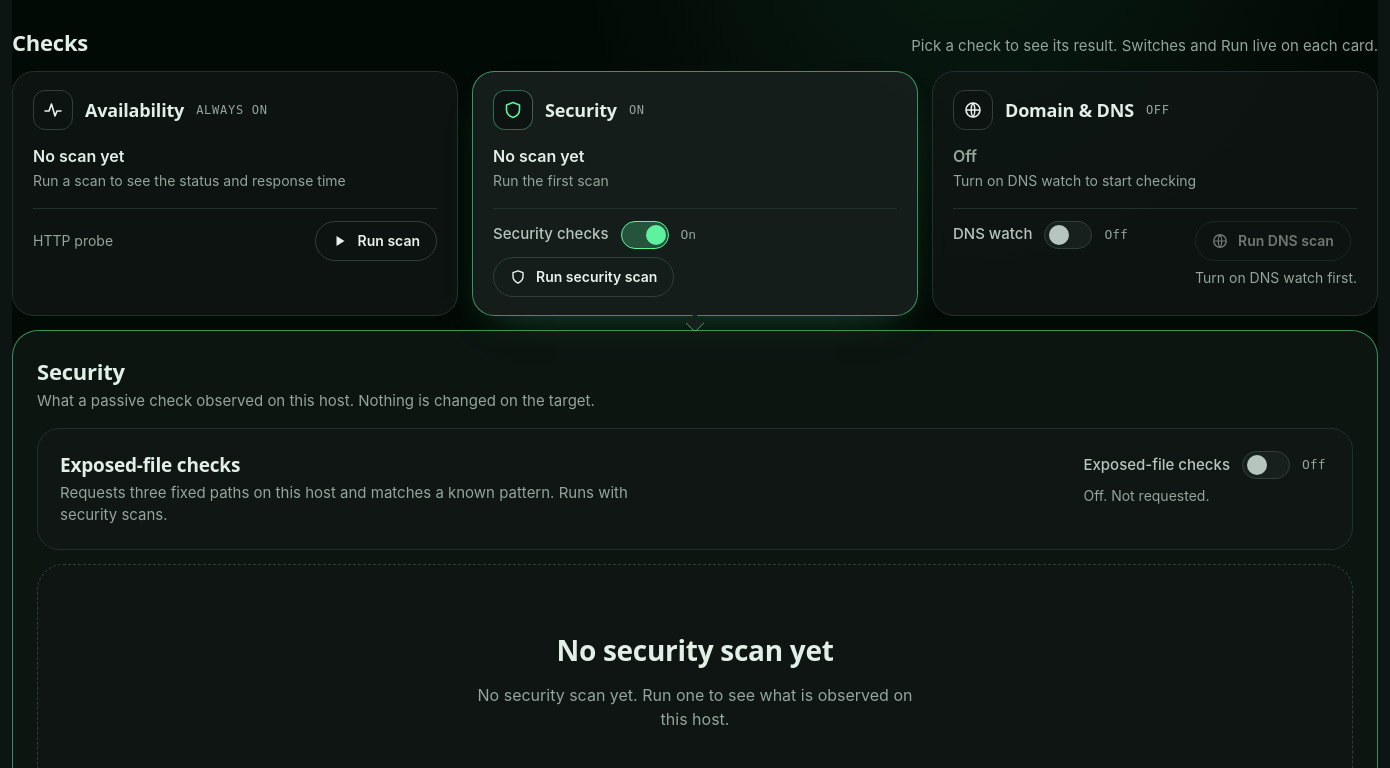
Scenario: SecurityPosture › disables the button with a countdown after a rate limit
The image size is (1390, 768).
What coordinates should you click on to do the following:
click the button "Run security scan"
I would click on:
 (584, 277)
Its box is [493, 257, 674, 297].
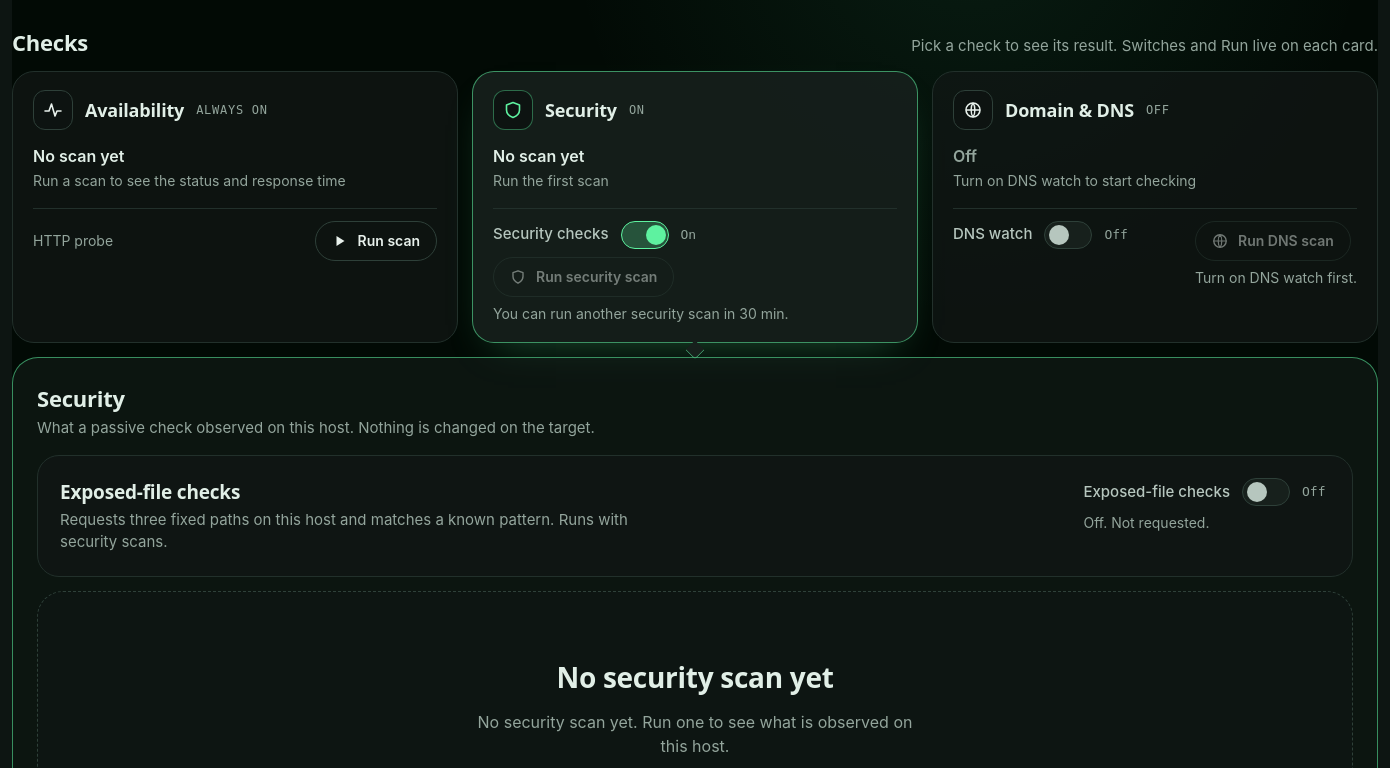
Result: the button "Run security scan" is disabled at [493, 257, 674, 297]
Result: the text "You can run another security scan in 30 min." is shown at [493, 303, 789, 324]
